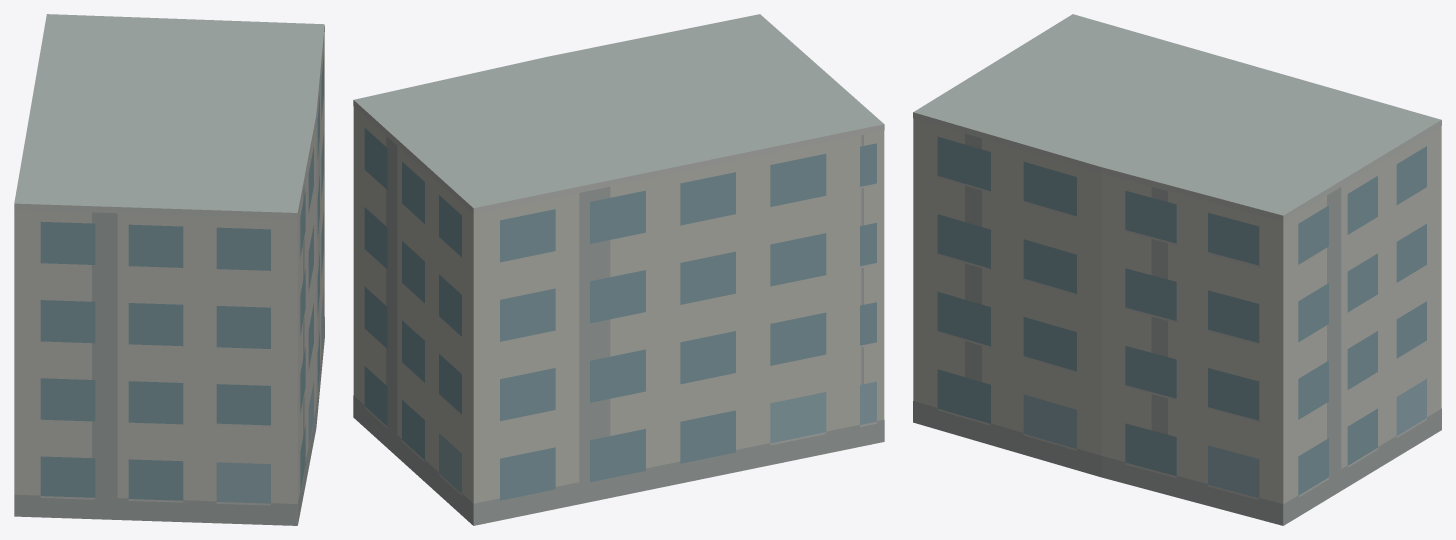
File: survey-upis-32542121.glb
3 views of the same model, side by side, from view 1: azimuth 30°, elevation 25°; view 2: azimuth 150°, elevation 25°; view 3: azimuth 270°, elevation 25° (orthographic). The views are drawn at different scales.
Parts seen in each view (by area): view 1: survey-upis-32542121.tmp; view 2: survey-upis-32542121.tmp; view 3: survey-upis-32542121.tmp.
Boxes of the visible parts, x1,y1,x2,y2 form: survey-upis-32542121.tmp: [14, 14, 324, 525]; survey-upis-32542121.tmp: [353, 14, 884, 525]; survey-upis-32542121.tmp: [913, 14, 1441, 525].
Bounding box in the file's own units: 17.01 × 12.2 × 18.85.
